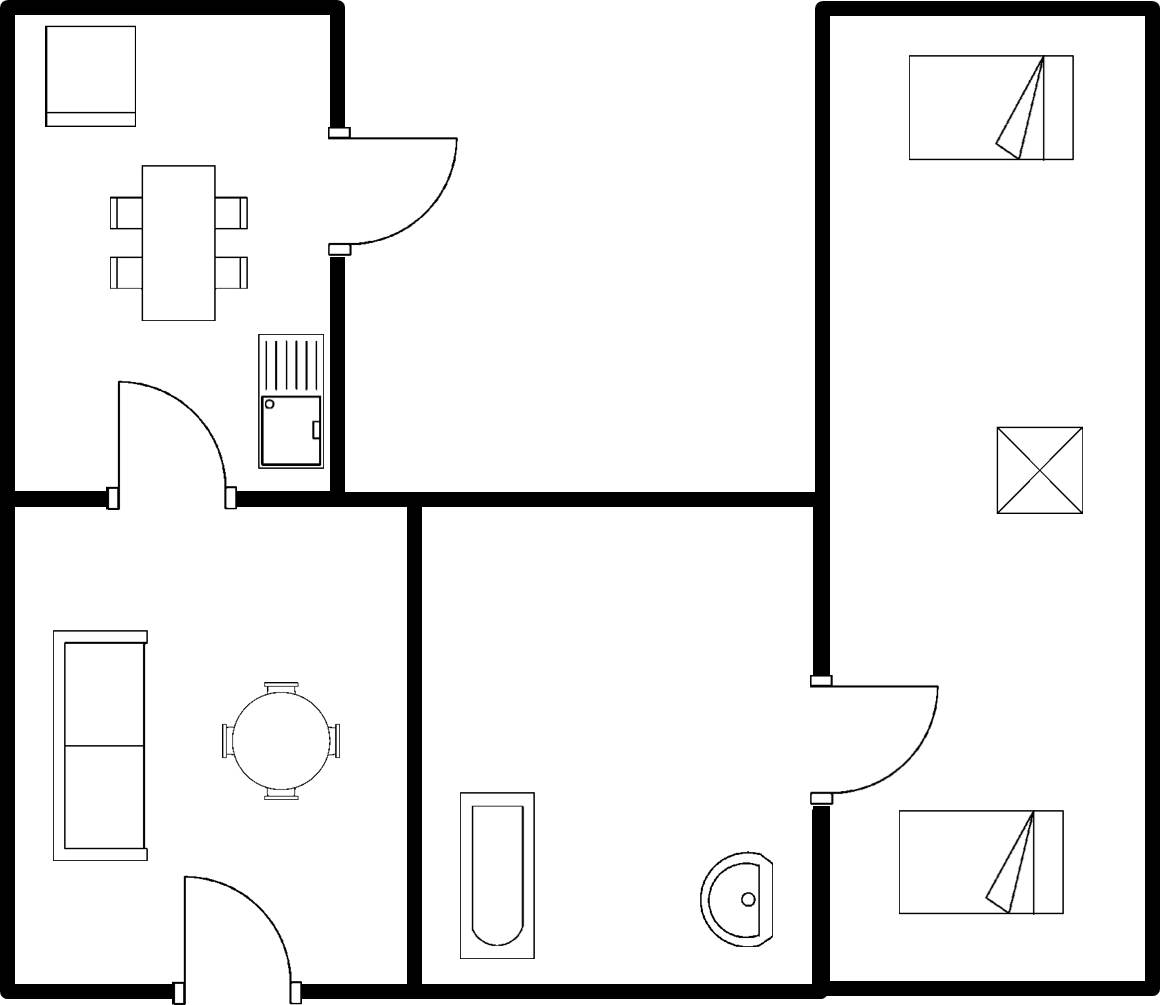bed: (900, 48, 1081, 171), (892, 801, 1071, 923)
coffee_table: (989, 421, 1089, 524)
dining_table: (100, 160, 254, 326)
large_sofa: (45, 622, 160, 869)
round_table: (216, 674, 346, 806)
sink: (251, 327, 327, 474)
small_sink: (690, 842, 781, 955)
small_sofa: (40, 20, 144, 132)
tub: (453, 786, 542, 966)
